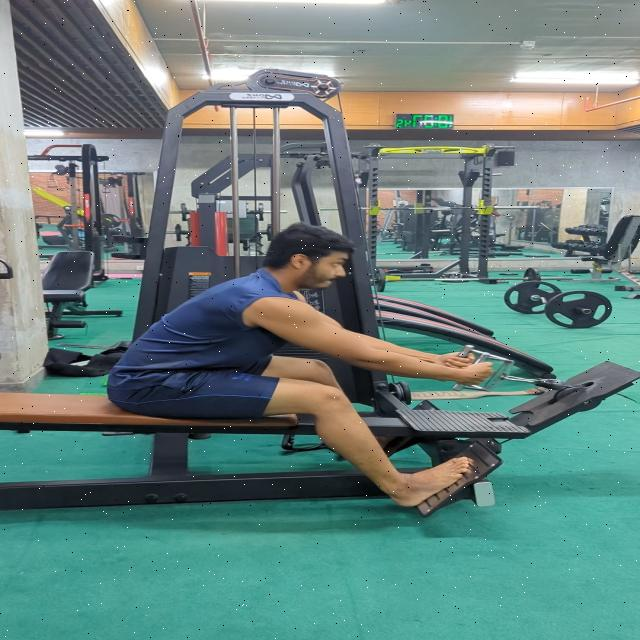Normal_RowingMachineExercise: (104, 222, 503, 508)
